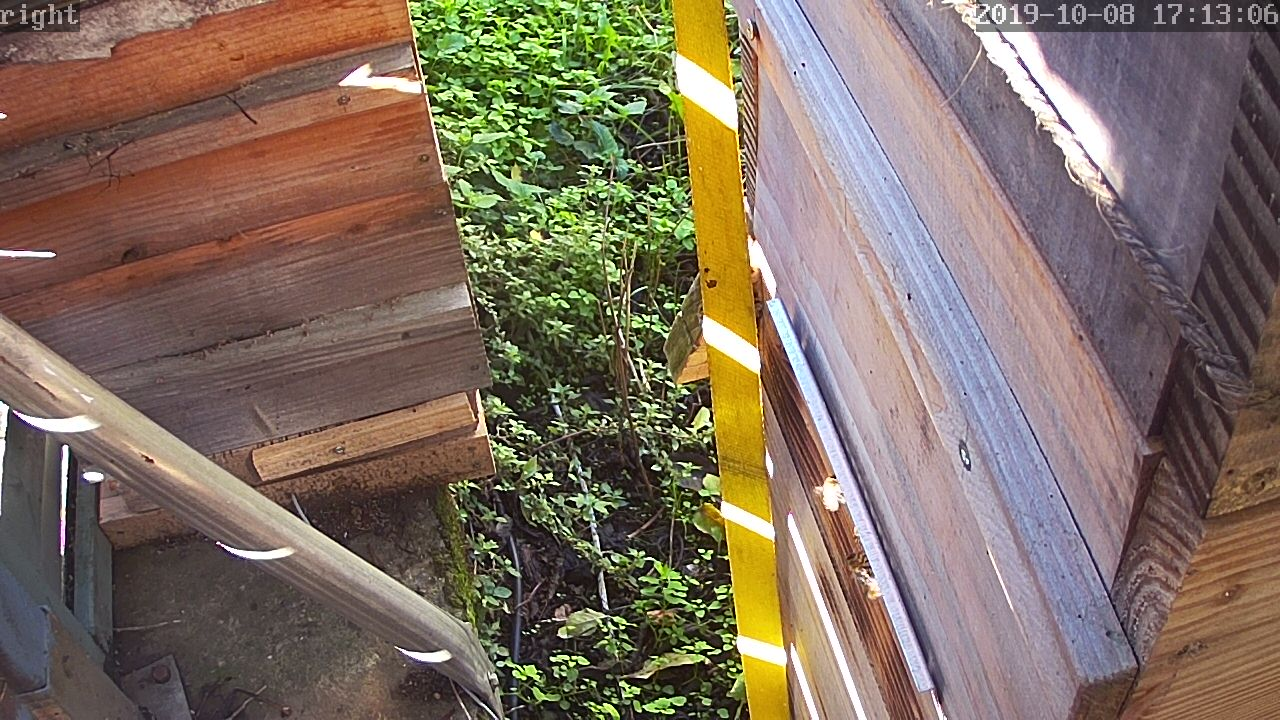bee: (841, 544, 884, 605), (819, 474, 852, 512)
